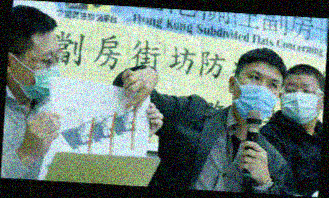with_mask: (11, 45, 62, 102), (232, 68, 282, 125), (278, 79, 323, 126)
